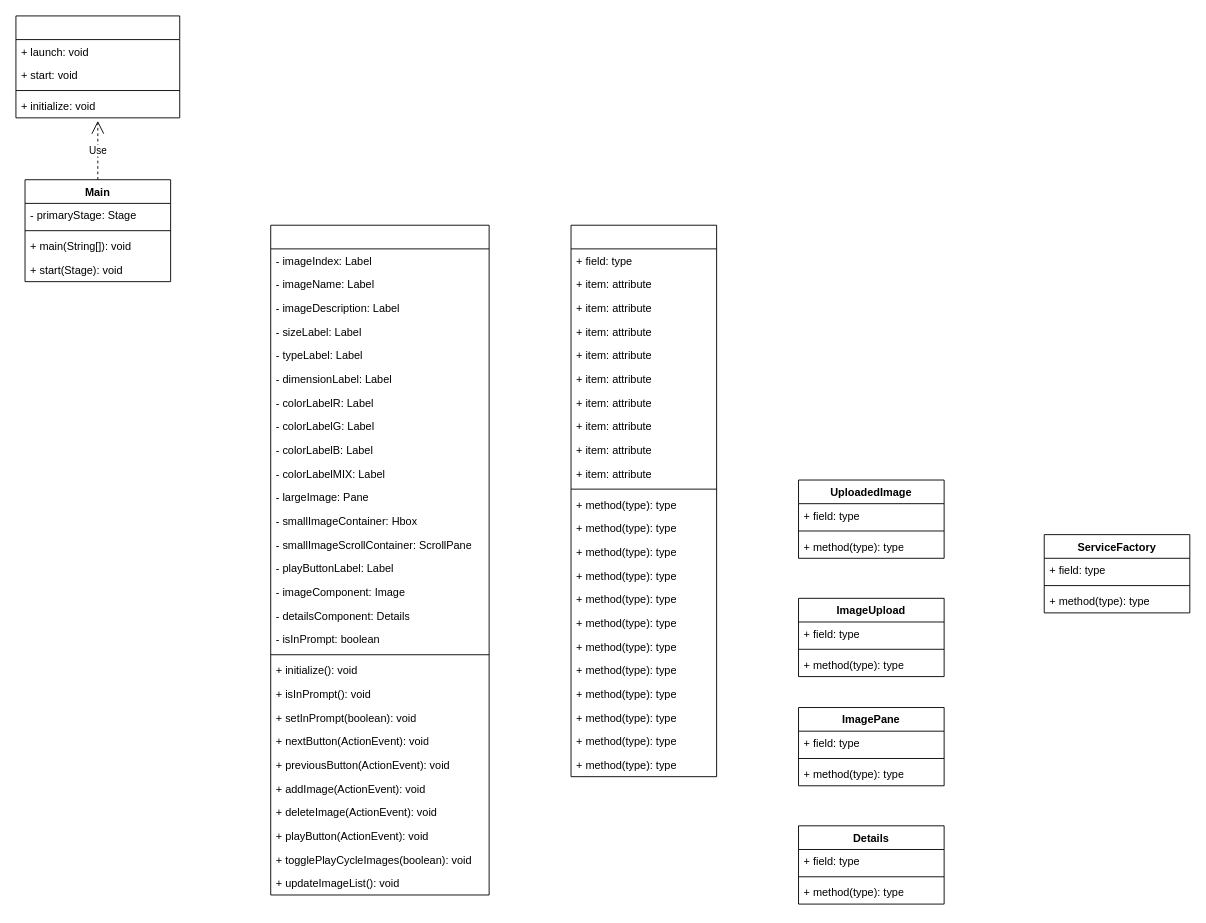
Image size: 1206x923. Some labels were removed from this diagram. The shapes that lost their labels are listed below. From the top down, each one's box as (x1, y1, x2, y2) in pixels, then its label:
(15, 15, 180, 118): Application
(570, 224, 717, 777): GUI.Image
(270, 224, 489, 895): UIController
